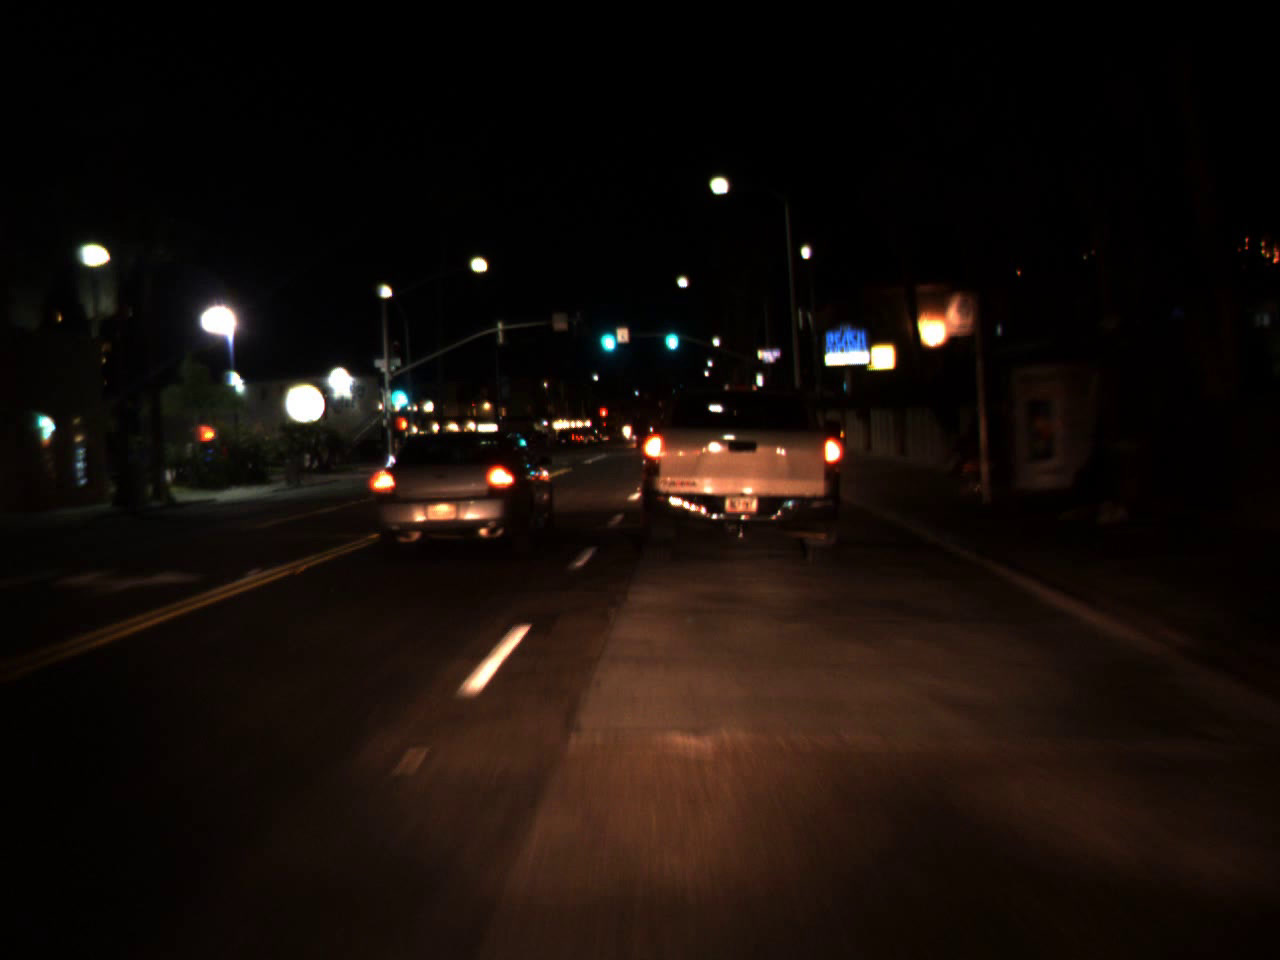go: (385, 368, 410, 413), (595, 312, 618, 357), (660, 313, 681, 355)
